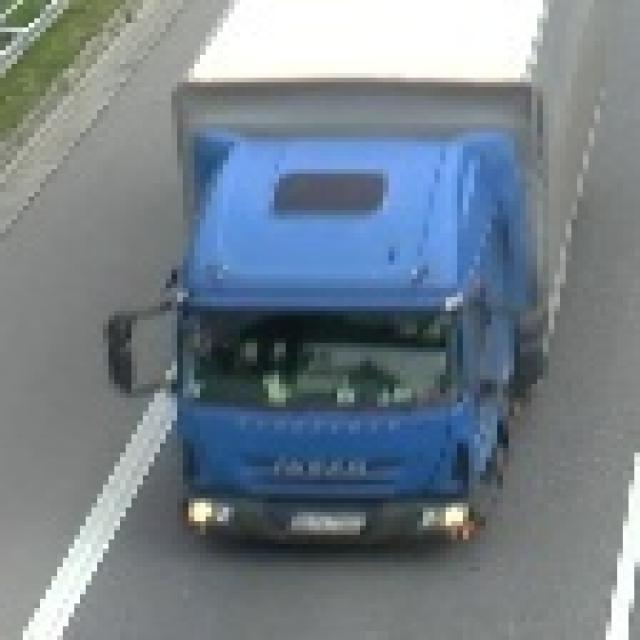truck: (75, 21, 600, 564)
